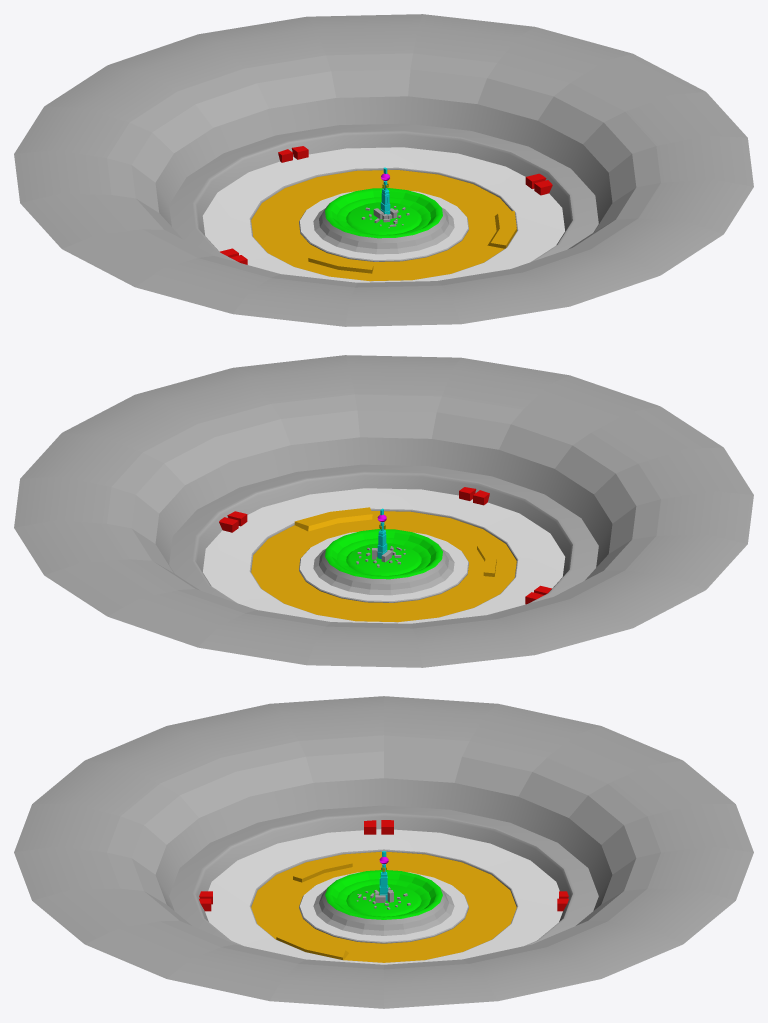
File: Kkyan_Dunet_-_TrackBlockout.fbx
The picture shows the model from 3 angles, top to bottom: view 1: azimuth 30°, elevation 25°; view 2: azimuth 150°, elevation 25°; view 3: azimuth 270°, elevation 25°; orthographic projection.
Visible parts, largest first — view 1: polySurface53, polySurface40; view 2: polySurface53, polySurface40; view 3: polySurface53, polySurface40.
Boxes of the visible parts, bbox=[...] form: polySurface53: bbox=[14, 14, 753, 326]; polySurface40: bbox=[220, 146, 552, 264]; polySurface53: bbox=[14, 355, 753, 667]; polySurface40: bbox=[219, 487, 551, 604]; polySurface53: bbox=[14, 696, 753, 1008]; polySurface40: bbox=[199, 820, 568, 911].
Size of the model in its own units: 91614 by 8339 by 91614.
